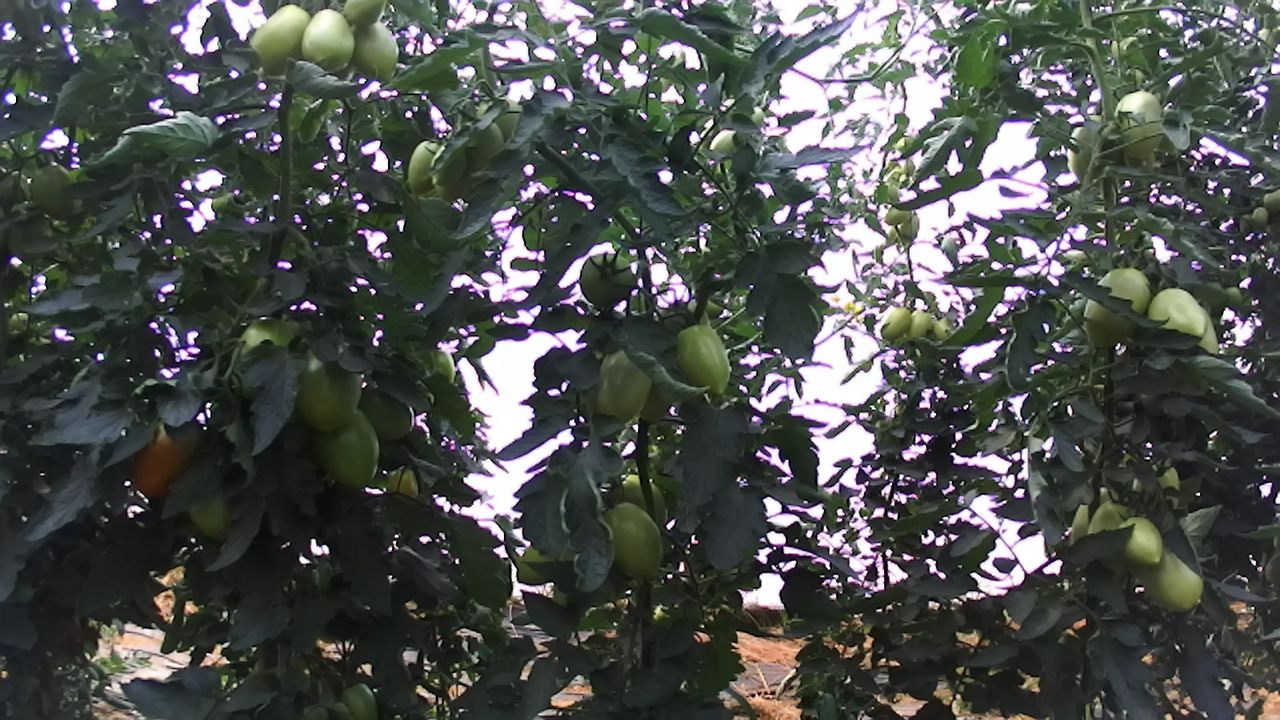tomato: (1076, 258, 1163, 355), (122, 416, 210, 500), (294, 343, 367, 437), (590, 336, 662, 426), (313, 403, 382, 490), (599, 497, 666, 582), (669, 322, 734, 399), (247, 2, 312, 74), (1148, 538, 1206, 616), (1145, 276, 1209, 346), (298, 4, 358, 76), (1110, 88, 1168, 162), (577, 244, 636, 310), (1111, 507, 1170, 571), (352, 20, 401, 82), (402, 133, 448, 197), (337, 679, 381, 720), (880, 306, 912, 342), (905, 308, 932, 342)
